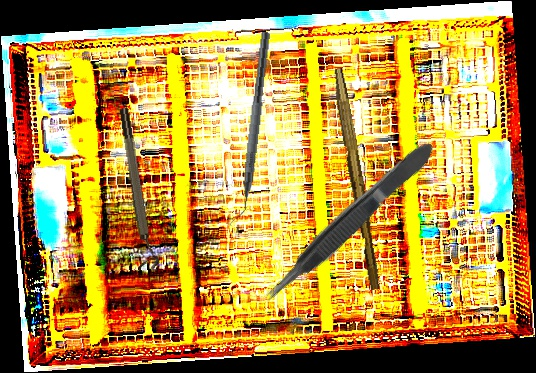Chopper: (227, 30, 271, 228)
Fixation Ring: (116, 106, 161, 271)
Scalpel Handle: (326, 67, 386, 291)
Tissue Forceps: (255, 137, 443, 310)
